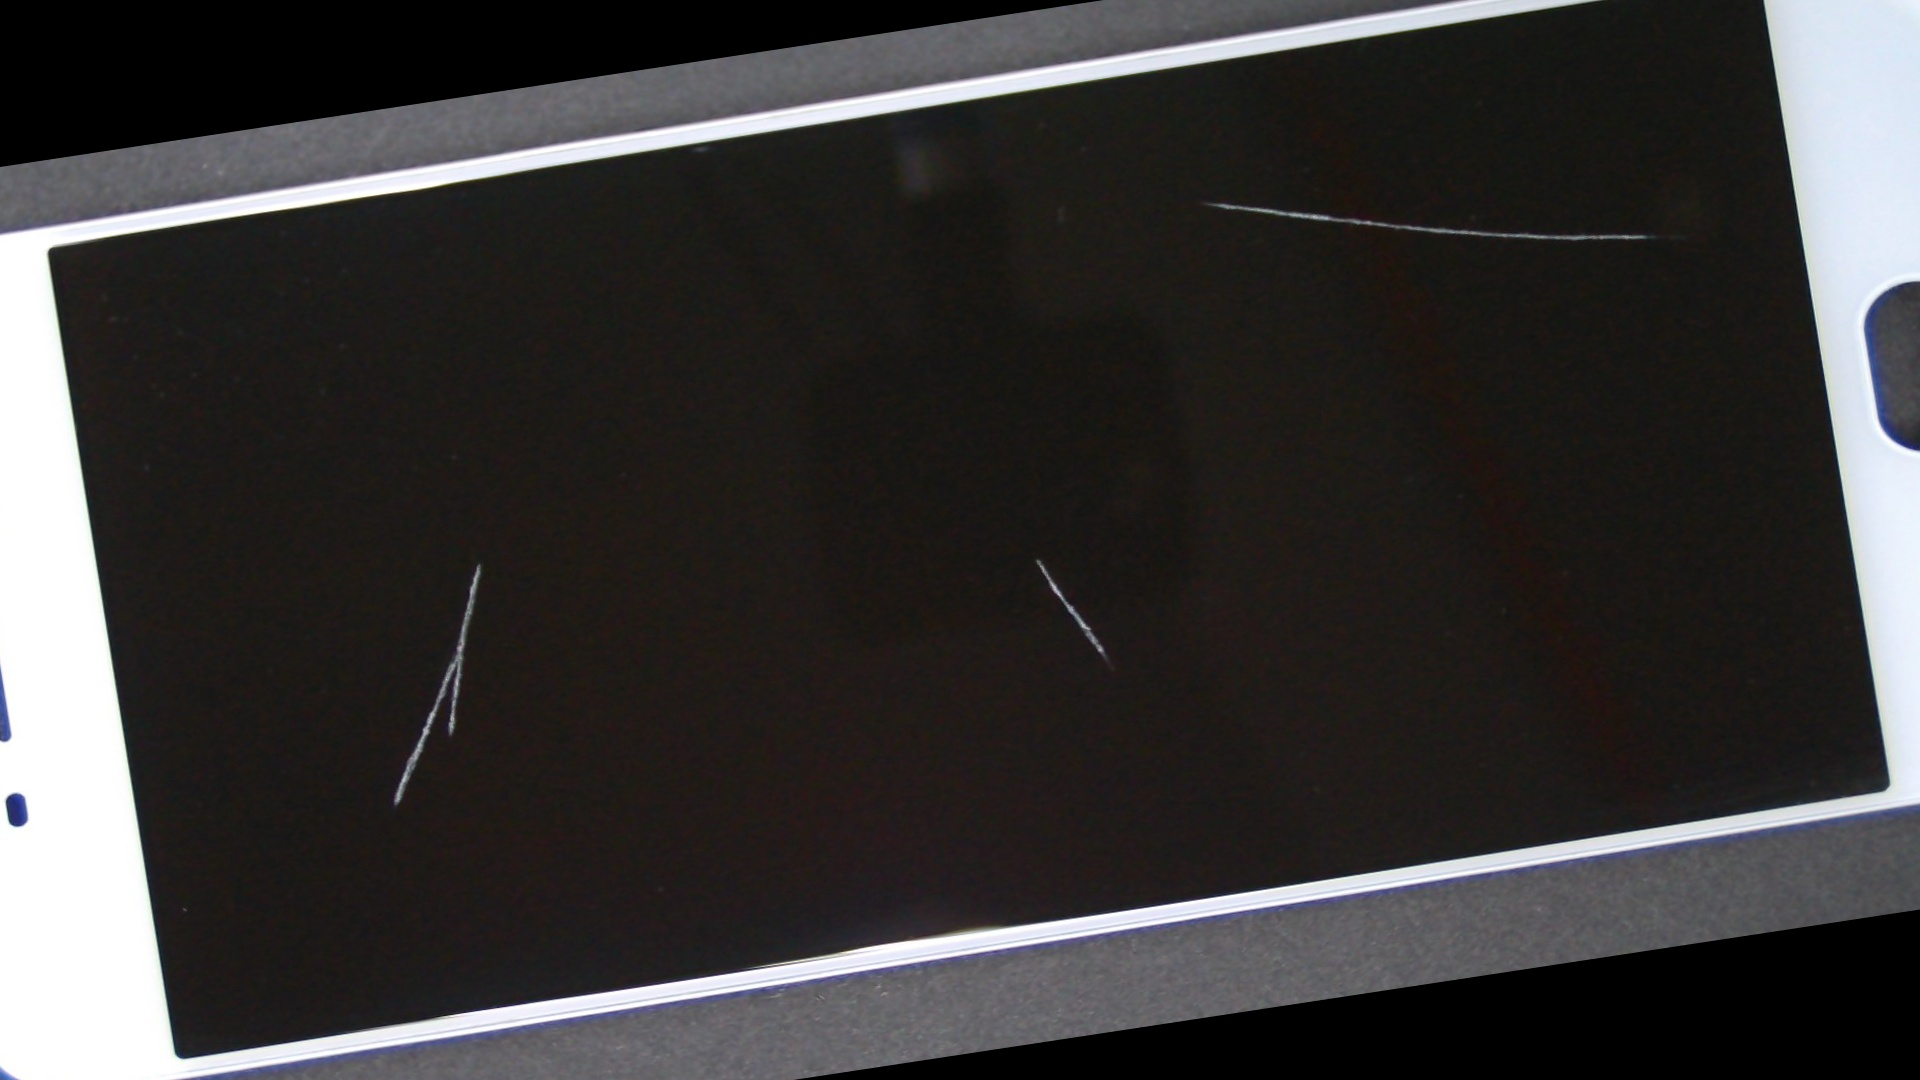oil: (434, 204, 1642, 911), (513, 0, 1891, 413), (153, 290, 802, 837)
